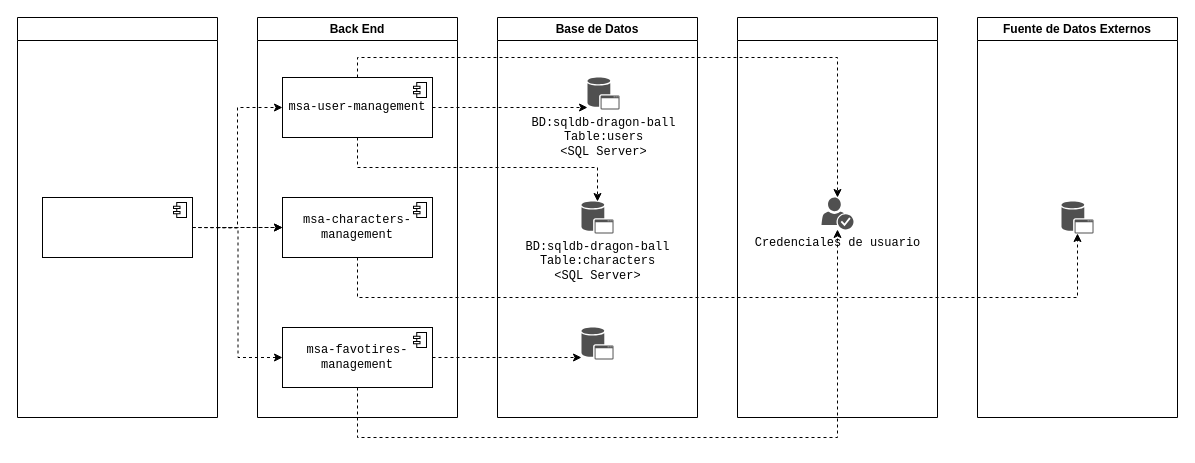
This 1195x463 diagram has some shape labels left out. Each missing label, with the box of its shape:
BD:sqldb-dragon-ball SCHEMA:favorites <SQL Server>: (581, 327, 613, 359)
Drangon Ball Api: (1061, 201, 1093, 233)
Front End: (16, 16, 218, 418)
Seguridad: (736, 16, 938, 418)
spa-dragon-ball: (42, 196, 192, 258)
